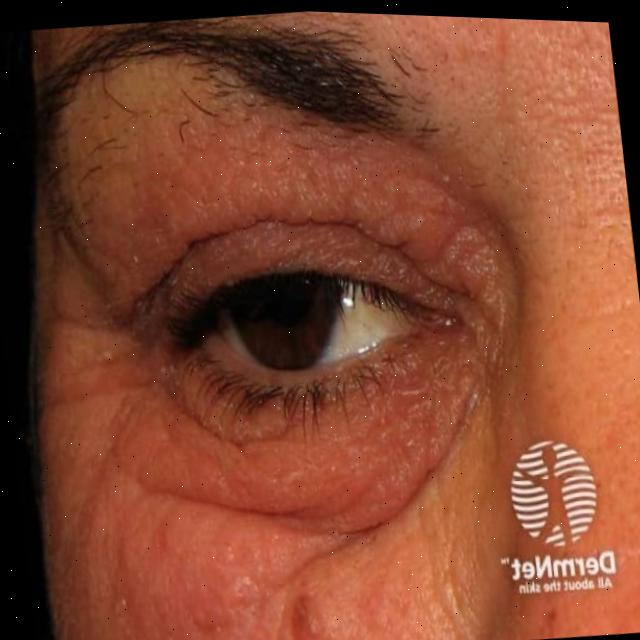Eczema: (67, 110, 542, 640)
